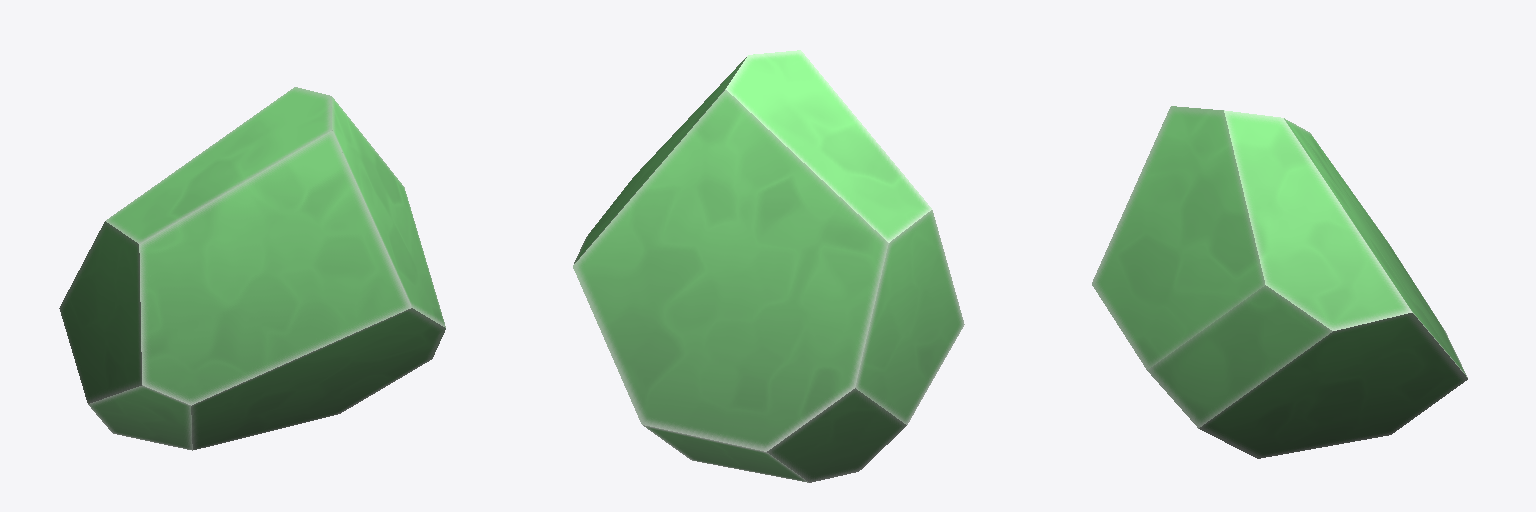
The picture shows the model from 3 angles: view 1: azimuth 30°, elevation 25°; view 2: azimuth 150°, elevation 25°; view 3: azimuth 270°, elevation 25°; orthographic projection.
Visible parts, largest first — view 1: Sphere.001_Baked; view 2: Sphere.001_Baked; view 3: Sphere.001_Baked.
Part boxes in pixels (x1,y1,x2,y2): Sphere.001_Baked: (59,87,445,450); Sphere.001_Baked: (573,50,964,482); Sphere.001_Baked: (1092,106,1467,458).
Size of the model in its own units: 2.92 by 3.04 by 3.08.
Materials: 1 (1 with a texture image).